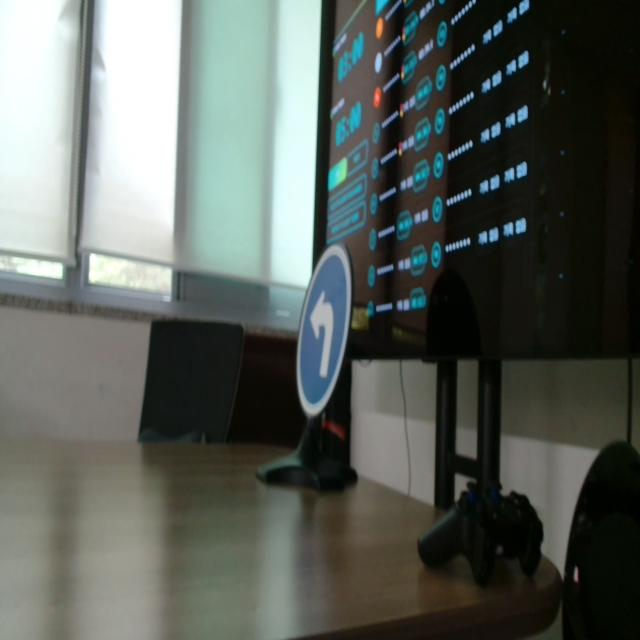left_direction: (295, 247, 355, 429)
